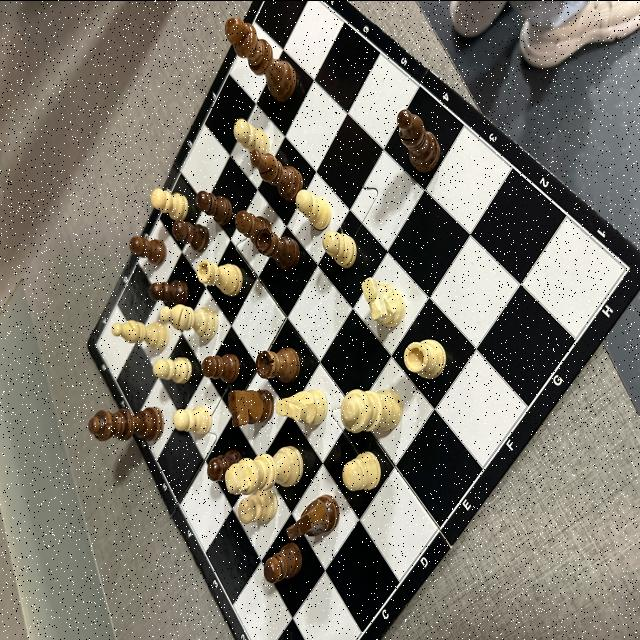Black-Bishop: (250, 148, 303, 202), (397, 108, 441, 172)
Black-King: (224, 16, 297, 101)
Black-Knight: (286, 494, 340, 540), (228, 388, 275, 426)
Black-Pawn: (264, 540, 302, 582), (196, 189, 232, 225), (172, 218, 210, 252), (207, 448, 242, 481), (129, 235, 167, 265), (202, 352, 240, 382), (235, 208, 271, 238), (149, 278, 189, 304)
Black-Queen: (88, 405, 164, 441)
Black-Rook: (254, 227, 300, 270), (256, 346, 300, 382)
White-Bishop: (160, 303, 219, 339), (112, 320, 170, 350)
White-King: (225, 444, 304, 494)
White-Knight: (361, 276, 406, 326), (276, 388, 328, 424)
White-Pawn: (342, 450, 381, 490), (296, 188, 332, 230), (238, 488, 278, 524), (233, 118, 270, 154), (322, 230, 357, 268), (150, 187, 188, 220), (172, 404, 212, 434), (152, 356, 192, 383)
White-Queen: (340, 388, 402, 432)
White-Rook: (404, 338, 446, 378), (196, 259, 242, 295)
